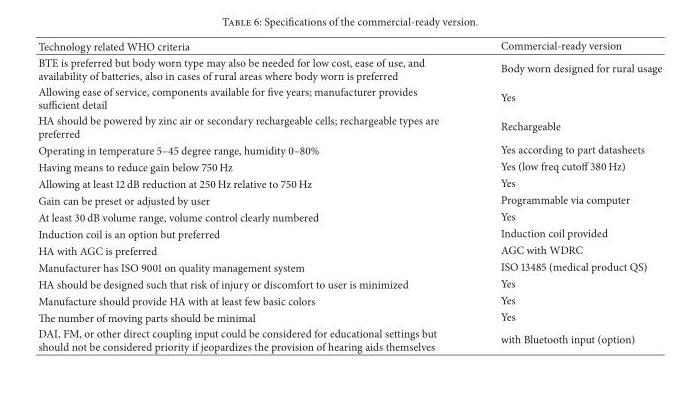table: (37, 37, 661, 353)
table column: (37, 37, 469, 353), (469, 37, 661, 353)
table column header: (37, 37, 661, 54)
table row: (37, 54, 661, 83), (37, 83, 661, 112), (37, 112, 661, 141), (37, 325, 661, 353), (37, 37, 661, 54), (37, 157, 661, 174), (37, 174, 661, 191), (37, 191, 661, 208), (37, 224, 661, 241), (37, 241, 661, 258), (37, 274, 661, 291), (37, 291, 661, 308), (37, 308, 661, 325), (37, 141, 661, 157), (37, 208, 661, 224), (37, 258, 661, 274)
